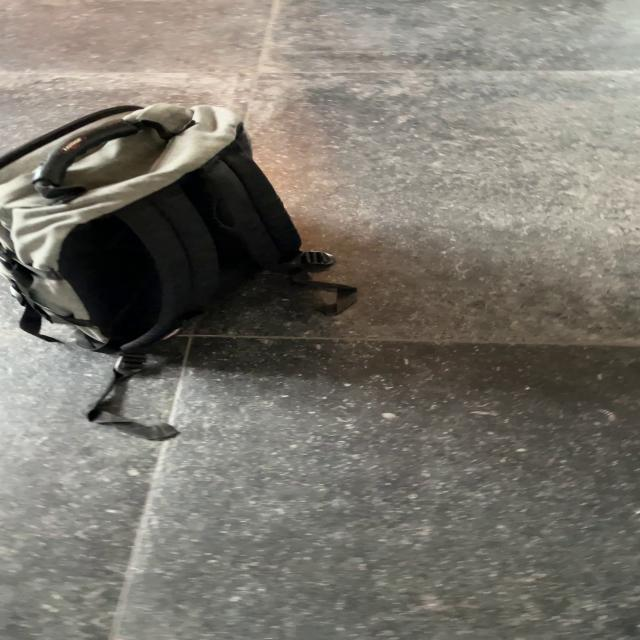backpack: (1, 96, 325, 359)
